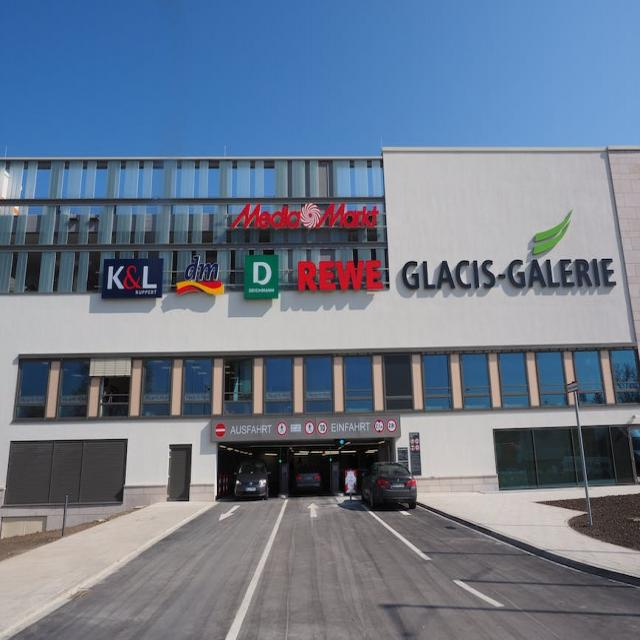no entry: (215, 422, 226, 438)
